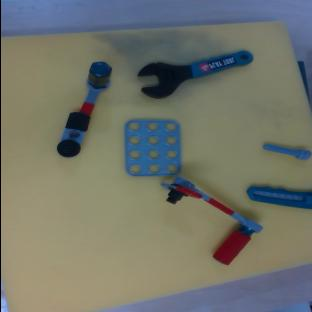non_pass: (52, 58, 117, 162)
pass: (142, 170, 263, 272)
